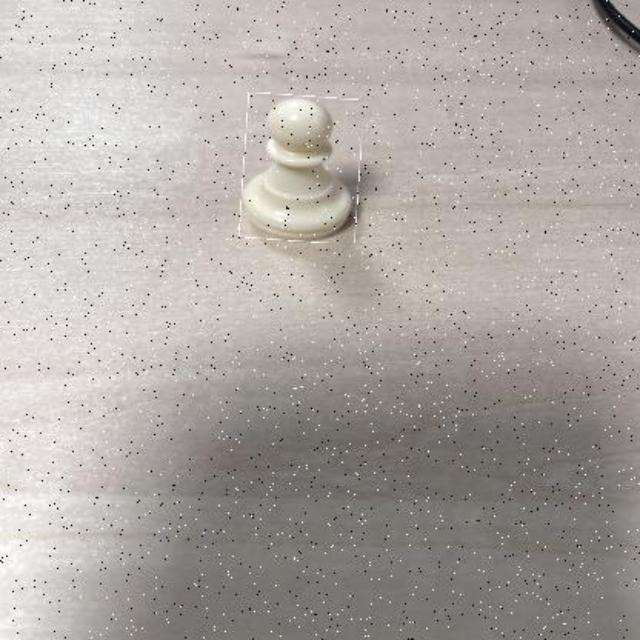white-pawn: (241, 95, 361, 242)
